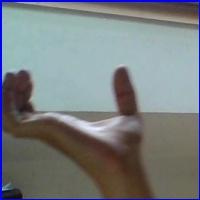B: (5, 59, 158, 181)
